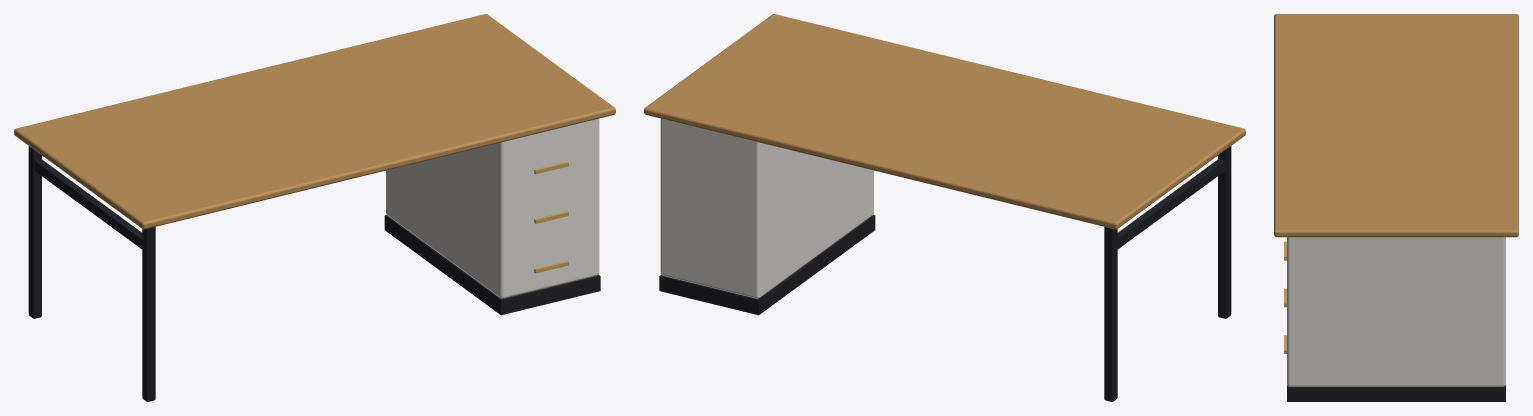
The model's file is metal_office_desk.gltf.
3 views of the same model, side by side, from view 1: azimuth 30°, elevation 25°; view 2: azimuth 150°, elevation 25°; view 3: azimuth 270°, elevation 25° (orthographic). The views are drawn at different scales.
Parts seen in each view (by area): view 1: metal_office_desk; view 2: metal_office_desk; view 3: metal_office_desk.
Boxes of the visible parts, x1,y1,x2,y2 form: metal_office_desk: (14, 14, 615, 401); metal_office_desk: (644, 14, 1245, 401); metal_office_desk: (1274, 14, 1518, 401).
Size of the model in its own units: 2 by 0.75 by 0.95.
